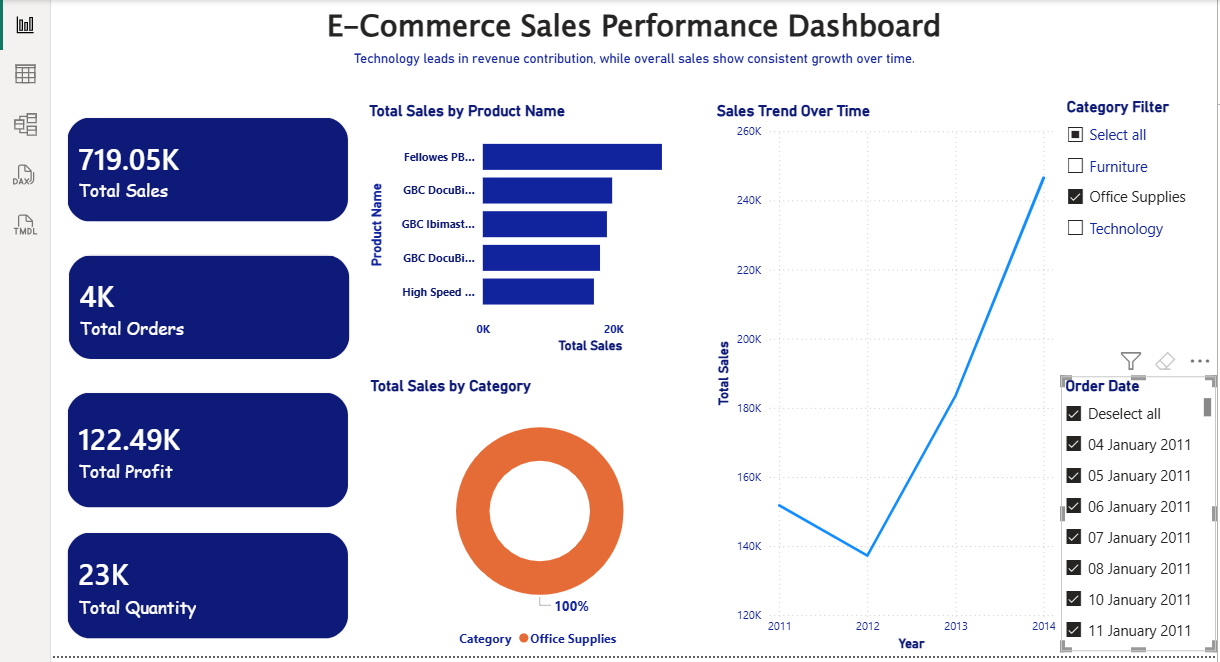

The page's visual inventory and layout, read from the dashboard file:
{"tool":"powerbi","page":{"name":"Page 1","canvas":[1280,720],"ordinal":0},"visuals":[{"type":"cardVisual","fields":{"Data":["Orders.Total Profit"]},"box":[0,413.1,344.3,162.3],"z":2002},{"type":"cardVisual","fields":{"Data":["Orders.Total Orders"]},"box":[1.6,262.3,344.3,150.8],"z":2003},{"type":"cardVisual","fields":{"Data":["Orders.Total Quantity"]},"box":[0,567.2,344.3,152.5],"z":2004},{"type":"cardVisual","fields":{"Data":["Orders.Total Sales"]},"box":[0,111.5,344.3,150.8],"z":2005},{"type":"clusteredBarChart","fields":{"Category":["Orders.Product Name"],"Y":["Orders.Total Sales"]},"box":[344.3,111.5,382,282],"z":2006},{"type":"donutChart","fields":{"Category":["Orders.Category"],"Y":["Orders.Total Sales"]},"box":[345.9,413.1,382,306.6],"z":2007},{"type":"lineChart","title":"Sales Trend Over Time","fields":{"Category":["Orders.Order Date.Variation.Date Hierarchy.Year","Orders.Order Date.Variation.Date Hierarchy.Quarter","Orders.Order Date.Variation.Date Hierarchy.Month","Orders.Order Date.Variation.Date Hierarchy.Day"],"Y":["Orders.Total Sales"]},"box":[726.2,111.5,382,608.2],"z":2008},{"type":"listSlicer","title":"Category Filter","fields":{"Values":["Orders.Category"]},"box":[1109.8,106.6,170.5,306.6],"z":2009},{"type":"listSlicer","fields":{"Values":["Orders.Order Date"]},"box":[1108.2,413.1,170.5,301.6],"z":2010},{"type":"textbox","box":[0,0,1280.3,85.2],"z":2011}]}

Visuals, with their boxes on the page's 1280x720 design canvas (x1, y1, x2, y2). These are canvas units, not pixel positions in the 1220x662 screenshot, which may show the page scaled, cropped or inside an application window:
cardVisual - Orders.Total Profit: BBox(0, 413, 344, 575)
cardVisual - Orders.Total Orders: BBox(2, 262, 346, 413)
cardVisual - Orders.Total Quantity: BBox(0, 567, 344, 720)
cardVisual - Orders.Total Sales: BBox(0, 112, 344, 262)
clusteredBarChart - Orders.Product Name x Orders.Total Sales: BBox(344, 112, 726, 394)
donutChart - Orders.Category x Orders.Total Sales: BBox(346, 413, 728, 720)
"Sales Trend Over Time" lineChart: BBox(726, 112, 1108, 720)
"Category Filter" listSlicer: BBox(1110, 107, 1280, 413)
listSlicer - Orders.Order Date: BBox(1108, 413, 1279, 715)
textbox: BBox(0, 0, 1280, 85)
